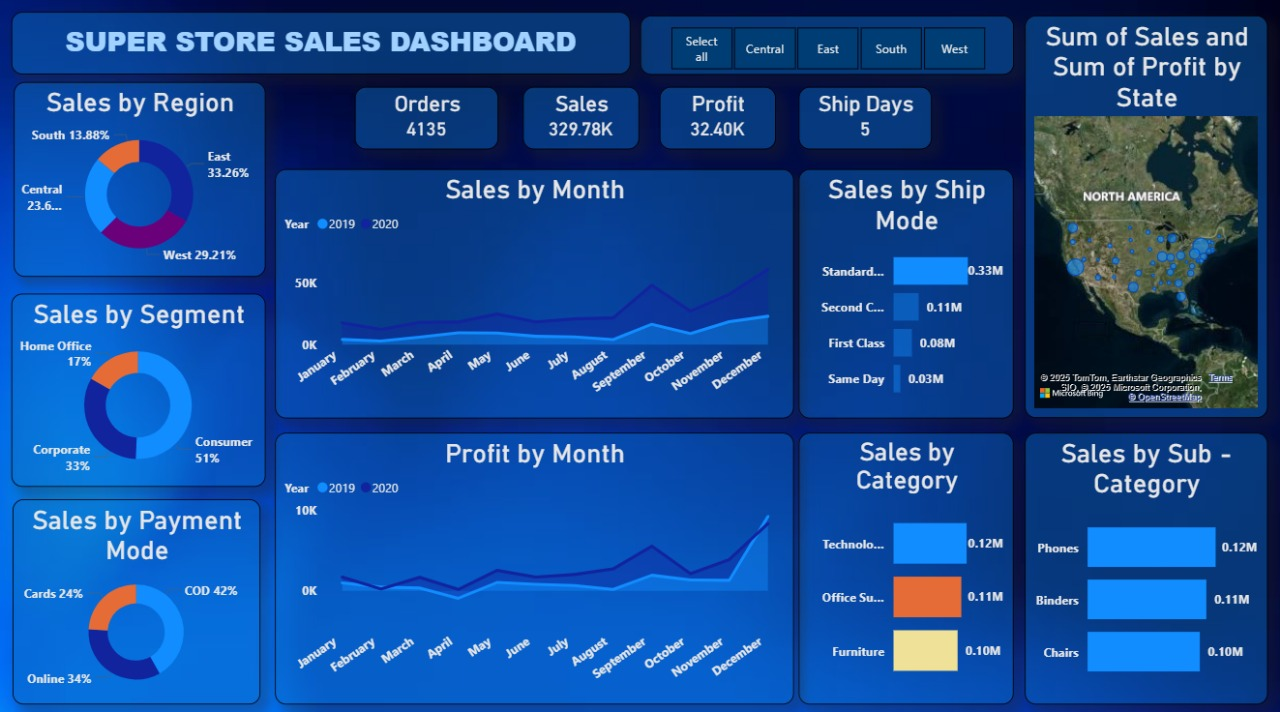

What the dashboard file says about the page in this screenshot:
{"tool":"powerbi","page":{"name":"Page 1","canvas":[1280,720],"ordinal":0},"visuals":[{"type":"clusteredBarChart","title":"Sales by Category","fields":{"Category":["SuperStore_Sales_Dataset.Category"],"Y":["Sum(SuperStore_Sales_Dataset.Sales)"]},"box":[798.6,414.9,214.9,271.6],"z":0},{"type":"clusteredBarChart","title":"Sales by Sub Category","fields":{"Category":["SuperStore_Sales_Dataset.Sub-Category"],"Y":["Sum(SuperStore_Sales_Dataset.Sales)"]},"box":[1024.3,413.5,241.9,271.6],"z":1000},{"type":"clusteredBarChart","title":"Sales by Ship Mode ","fields":{"Category":["SuperStore_Sales_Dataset.Ship Mode"],"Y":["Sum(SuperStore_Sales_Dataset.Sales)"]},"box":[798.6,155.4,255.4,233.8],"z":2000},{"type":"stackedAreaChart","title":"Monthly Sales by YoY","fields":{"Y":["Sum(SuperStore_Sales_Dataset.Sales)"],"Series":["SuperStore_Sales_Dataset.Order Date.Variation.Date Hierarchy.Year"],"Category":["SuperStore_Sales_Dataset.Order Date.Variation.Date Hierarchy.Month","SuperStore_Sales_Dataset.Order Date.Variation.Date Hierarchy.Day"]},"box":[274.3,158.1,518.9,232.4],"z":3000},{"type":"stackedAreaChart","title":"Monthly Profit by YoY","fields":{"Series":["SuperStore_Sales_Dataset.Order Date.Variation.Date Hierarchy.Year"],"Category":["SuperStore_Sales_Dataset.Order Date.Variation.Date Hierarchy.Month","SuperStore_Sales_Dataset.Order Date.Variation.Date Hierarchy.Day"],"Y":["Sum(SuperStore_Sales_Dataset.Profit)"]},"box":[274.3,413.5,517.6,271.6],"z":4000},{"type":"map","fields":{"Category":["SuperStore_Sales_Dataset.State"],"Size":["Sum(SuperStore_Sales_Dataset.Sales)"]},"box":[1063.5,18.9,202.7,371.6],"z":5000},{"type":"donutChart","fields":{"Category":["SuperStore_Sales_Dataset.Segment"],"Y":["Sum(SuperStore_Sales_Dataset.Sales)"]},"box":[13.5,155.4,247.3,232.4],"z":6000},{"type":"donutChart","fields":{"Category":["SuperStore_Sales_Dataset.Payment Mode"],"Y":["Sum(SuperStore_Sales_Dataset.Sales)"]},"box":[13.5,413.5,247.3,271.6],"z":7000},{"type":"slicer","fields":{"Values":["SuperStore_Sales_Dataset.Region"]},"box":[720.3,18.9,324.3,117.6],"z":8000},{"type":"textbox","box":[22.9,19.3,687.7,53.1],"z":9000},{"type":"card","title":"Sales","fields":{"Values":["Sum(SuperStore_Sales_Dataset.Sales)"]},"box":[57.9,83.2,124.3,62.7],"z":10000},{"type":"card","title":"Quantity","fields":{"Values":["Sum(SuperStore_Sales_Dataset.Quantity)"]},"box":[212.3,82,124.3,62.7],"z":11000},{"type":"card","title":"Profit ","fields":{"Values":["Sum(SuperStore_Sales_Dataset.Profit)"]},"box":[354.7,83.2,124.3,62.7],"z":12000},{"type":"card","title":"Avg Delivery Time","fields":{"Values":["Avg(SuperStore_Sales_Dataset.AvgDelivery)"]},"box":[503.1,83.2,156.8,60.3],"z":13000}]}

Visuals, with their boxes in screenshot pixels (x1, y1, x2, y2), scaled from the page's 1280x720 canvas onto the 1280x712 screenshot:
"Sales by Category" clusteredBarChart: pyautogui.locateOnScreen(799, 410, 1014, 679)
"Sales by Sub Category" clusteredBarChart: pyautogui.locateOnScreen(1024, 409, 1266, 677)
"Sales by Ship Mode " clusteredBarChart: pyautogui.locateOnScreen(799, 154, 1054, 385)
"Monthly Sales by YoY" stackedAreaChart: pyautogui.locateOnScreen(274, 156, 793, 386)
"Monthly Profit by YoY" stackedAreaChart: pyautogui.locateOnScreen(274, 409, 792, 677)
map - SuperStore_Sales_Dataset.State x Sum(SuperStore_Sales_Dataset.Sales): pyautogui.locateOnScreen(1064, 19, 1266, 386)
donutChart - SuperStore_Sales_Dataset.Segment x Sum(SuperStore_Sales_Dataset.Sales): pyautogui.locateOnScreen(14, 154, 261, 383)
donutChart - SuperStore_Sales_Dataset.Payment Mode x Sum(SuperStore_Sales_Dataset.Sales): pyautogui.locateOnScreen(14, 409, 261, 677)
slicer - SuperStore_Sales_Dataset.Region: pyautogui.locateOnScreen(720, 19, 1045, 135)
textbox: pyautogui.locateOnScreen(23, 19, 711, 72)
"Sales" card: pyautogui.locateOnScreen(58, 82, 182, 144)
"Quantity" card: pyautogui.locateOnScreen(212, 81, 337, 143)
"Profit " card: pyautogui.locateOnScreen(355, 82, 479, 144)
"Avg Delivery Time" card: pyautogui.locateOnScreen(503, 82, 660, 142)
